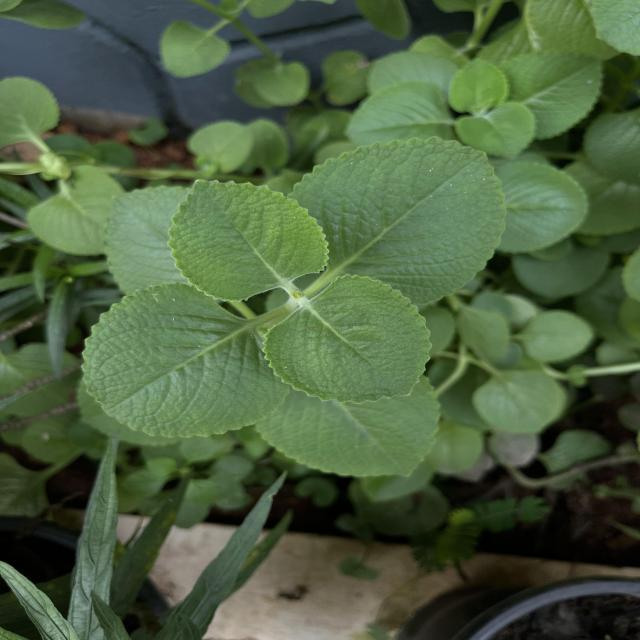Plectranthus barbatus: (285, 134, 508, 308), (79, 280, 293, 440), (260, 272, 434, 406), (166, 176, 332, 304), (255, 390, 443, 478)
